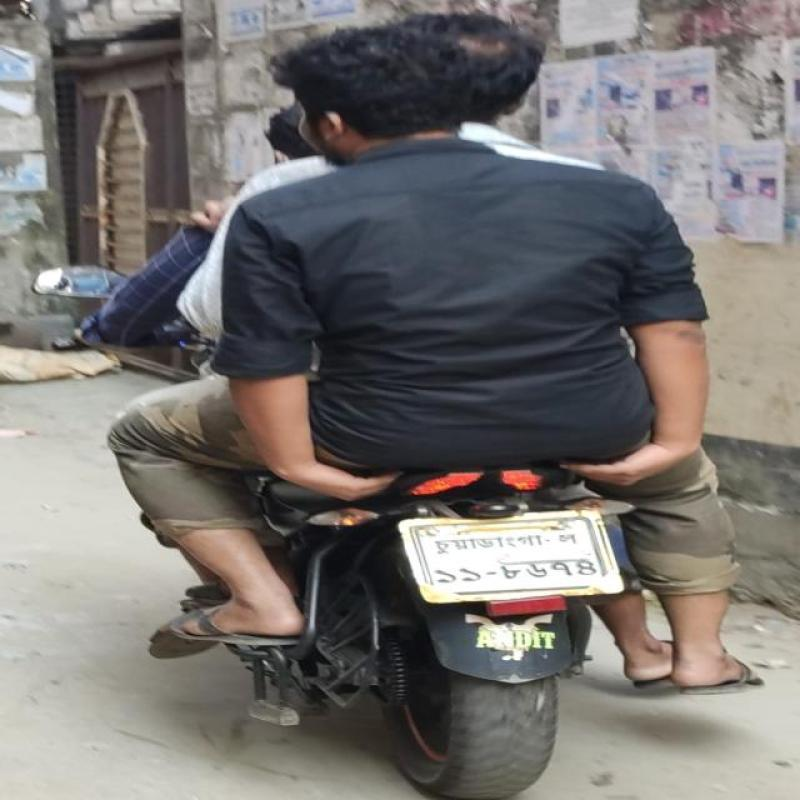nohelmet: (266, 34, 480, 148)
